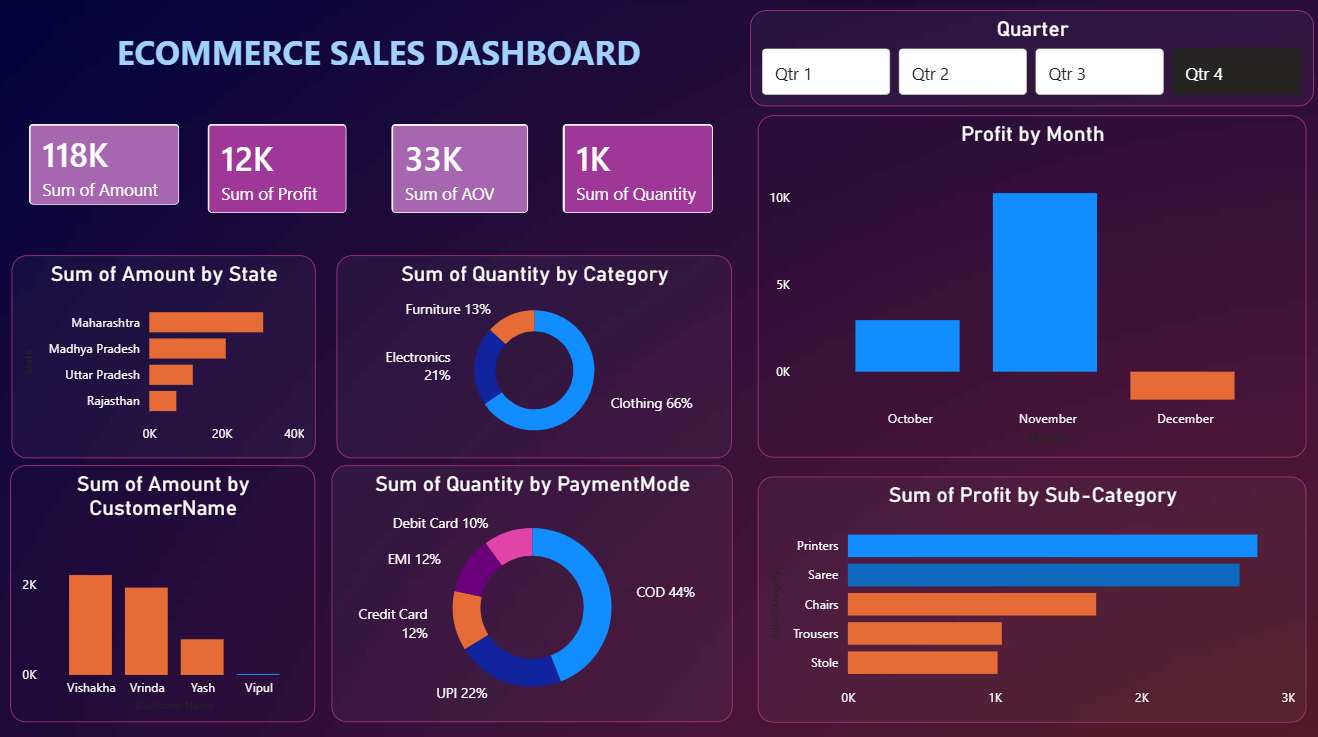

This screenshot's page, from the dashboard's own definition file:
{"tool":"powerbi","page":{"name":"Page 1","canvas":[1280,720],"ordinal":0},"visuals":[{"type":"textbox","box":[29.6,24.2,682.5,136],"z":0},{"type":"columnChart","title":"Profit by Month","fields":{"Y":["Sum(Details.Profit)"],"Category":["Orders.Order Date.Variation.Date Hierarchy.Month"]},"box":[736.9,112.5,529.7,330.7],"z":1000},{"type":"barChart","fields":{"Y":["Sum(Details.Profit)"],"Category":["Details.Sub-Category"]},"box":[736.9,461.1,529.7,237.4],"z":2000},{"type":"donutChart","fields":{"Category":["Details.Category"],"Y":["Sum(Details.Quantity)"]},"box":[330.7,247,381.5,196.2],"z":3000},{"type":"donutChart","fields":{"Y":["Sum(Details.Quantity)"],"Category":["Details.PaymentMode"]},"box":[325.2,450.1,387,248.4],"z":4000},{"type":"cardVisual","fields":{"Data":["Sum(Details.Amount)"]},"box":[16.5,104.3,179.8,112.5],"z":5000},{"type":"cardVisual","fields":{"Data":["Sum(Details.Profit)"]},"box":[189.4,104.3,168.8,120.8],"z":6000},{"type":"cardVisual","fields":{"Data":["Sum(Details.AOV)"]},"box":[366.4,104.3,166,120.8],"z":7000},{"type":"cardVisual","fields":{"Data":["Sum(Details.Quantity)"]},"box":[532.4,104.3,179.8,120.8],"z":8000},{"type":"barChart","fields":{"Y":["Sum(Details.Amount)"],"Category":["Orders.State"]},"box":[16.5,247,293.7,196.2],"z":9000},{"type":"columnChart","fields":{"Category":["Orders.CustomerName"],"Y":["Sum(Details.Amount)"]},"box":[16,450,294,248],"z":10000},{"type":"advancedSlicerVisual","fields":{"Values":["Orders.Order Date.Variation.Date Hierarchy.Quarter"]},"box":[729.7,10.8,543.9,92.9],"z":11000}]}

Visuals, with their boxes in screenshot pixels (x1, y1, x2, y2), scaled from the page's 1280x720 canvas onto the 1318x737 screenshot:
textbox: 30, 25, 733, 164
"Profit by Month" columnChart: 759, 115, 1304, 454
barChart - Sum(Details.Profit) x Details.Sub-Category: 759, 472, 1304, 715
donutChart - Details.Category x Sum(Details.Quantity): 341, 253, 733, 454
donutChart - Sum(Details.Quantity) x Details.PaymentMode: 335, 461, 733, 715
cardVisual - Sum(Details.Amount): 17, 107, 202, 222
cardVisual - Sum(Details.Profit): 195, 107, 369, 230
cardVisual - Sum(Details.AOV): 377, 107, 548, 230
cardVisual - Sum(Details.Quantity): 548, 107, 733, 230
barChart - Sum(Details.Amount) x Orders.State: 17, 253, 319, 454
columnChart - Orders.CustomerName x Sum(Details.Amount): 16, 461, 319, 714
advancedSlicerVisual - Orders.Order Date.Variation.Date Hierarchy.Quarter: 751, 11, 1311, 106
